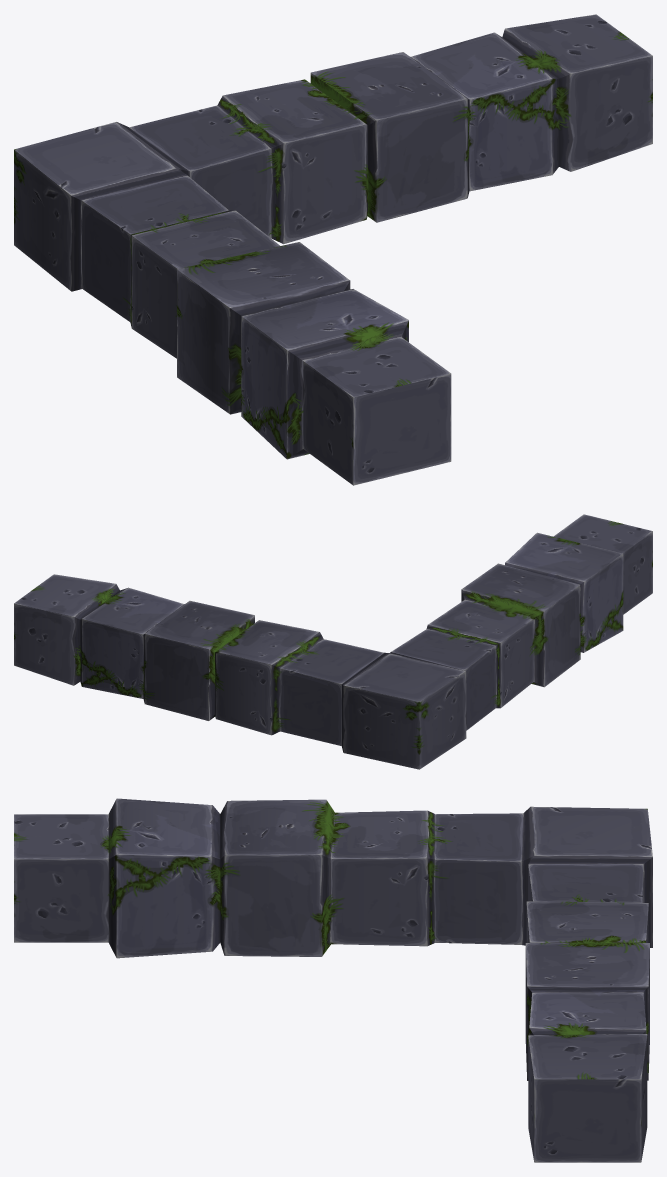
Rendered from MOD_WallCover_01_E_corner_concave.fbx.
3 renders of one model, top to bottom at view 1: azimuth 30°, elevation 25°; view 2: azimuth 150°, elevation 25°; view 3: azimuth 270°, elevation 25°, orthographic. The views are drawn at different scales.
Visible parts, largest first — view 1: MOD_WallCover_01_E_corner_concave; view 2: MOD_WallCover_01_E_corner_concave; view 3: MOD_WallCover_01_E_corner_concave.
Part boxes in pixels (x1,y1,x2,y2): MOD_WallCover_01_E_corner_concave: (14,14,652,485); MOD_WallCover_01_E_corner_concave: (14,514,652,769); MOD_WallCover_01_E_corner_concave: (14,798,652,1162).
Size of what is drawn, in the model's own units: 419 by 74.69 by 418.
